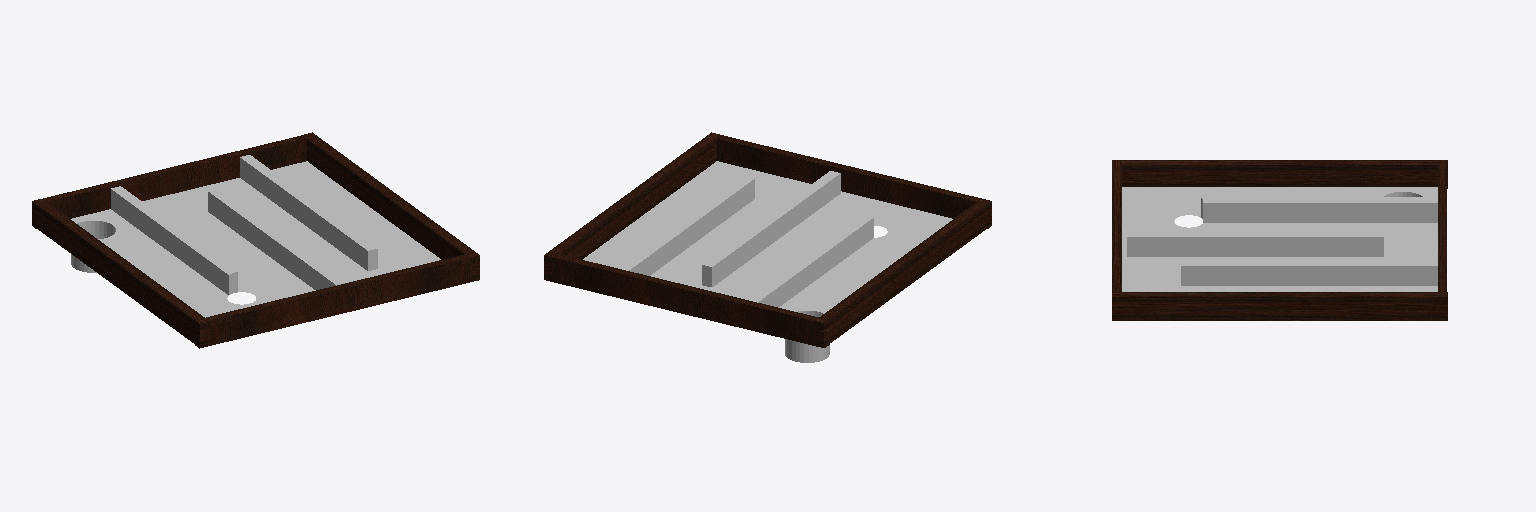
3 renders of one model, left to right at view 1: azimuth 30°, elevation 25°; view 2: azimuth 150°, elevation 25°; view 3: azimuth 270°, elevation 25°, orthographic.
Visible parts, largest first — view 1: Cube, Plane, Cube.001_Cube.004, Cube.003_Cube.006, Cube.002_Cube.005; view 2: Cube, Plane, Cube.002_Cube.005, Cube.001_Cube.004, Cube.003_Cube.006; view 3: Cube, Plane, Cube.001_Cube.004, Cube.002_Cube.005, Cube.003_Cube.006.
Part boxes in pixels (x1,y1,x2,y2): Cube: (32, 132, 479, 348); Plane: (71, 161, 440, 317); Cube.001_Cube.004: (240, 155, 377, 270); Cube.003_Cube.006: (111, 186, 237, 294); Cube.002_Cube.005: (208, 189, 345, 289); Cube: (544, 132, 991, 347); Plane: (583, 161, 952, 362); Cube.002_Cube.005: (702, 171, 840, 286); Cube.001_Cube.004: (618, 176, 754, 275); Cube.003_Cube.006: (748, 216, 873, 307); Cube: (1112, 160, 1447, 320); Plane: (1122, 187, 1437, 291); Cube.001_Cube.004: (1181, 260, 1437, 285); Cube.002_Cube.005: (1127, 232, 1383, 256); Cube.003_Cube.006: (1201, 197, 1437, 222).
Bounding box in the file's own units: 14.35 × 2.72 × 14.87.
Materials: 4 (1 with a texture image).